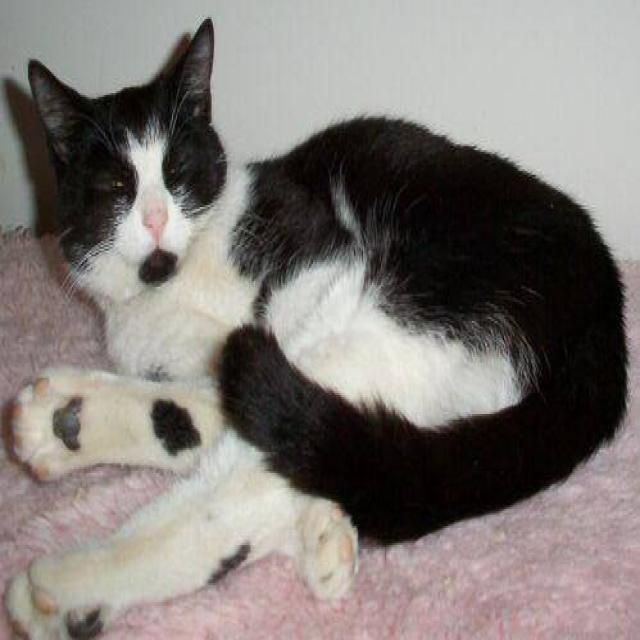cat: (0, 12, 633, 640)
